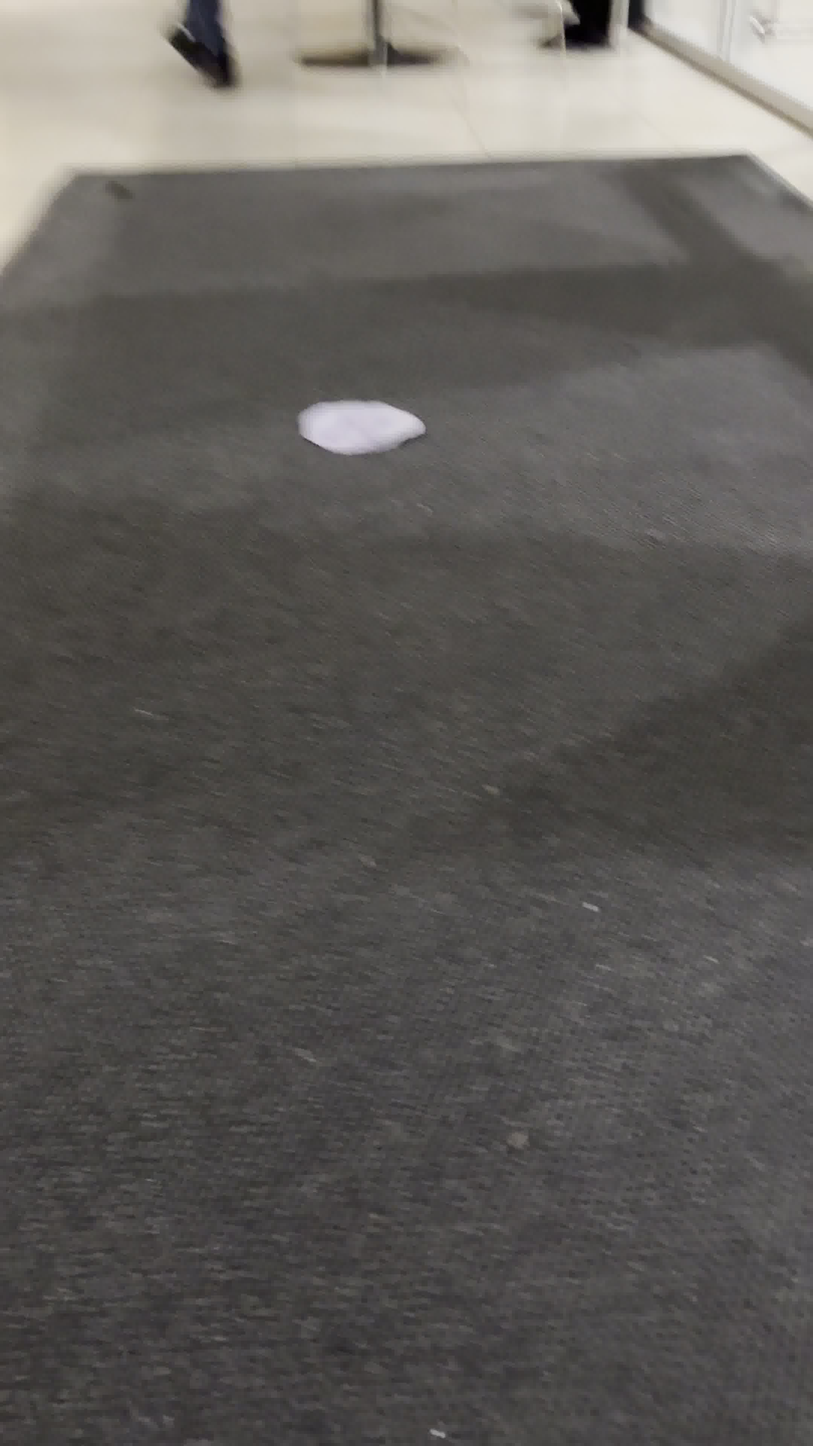Target: (294, 394, 432, 460)
